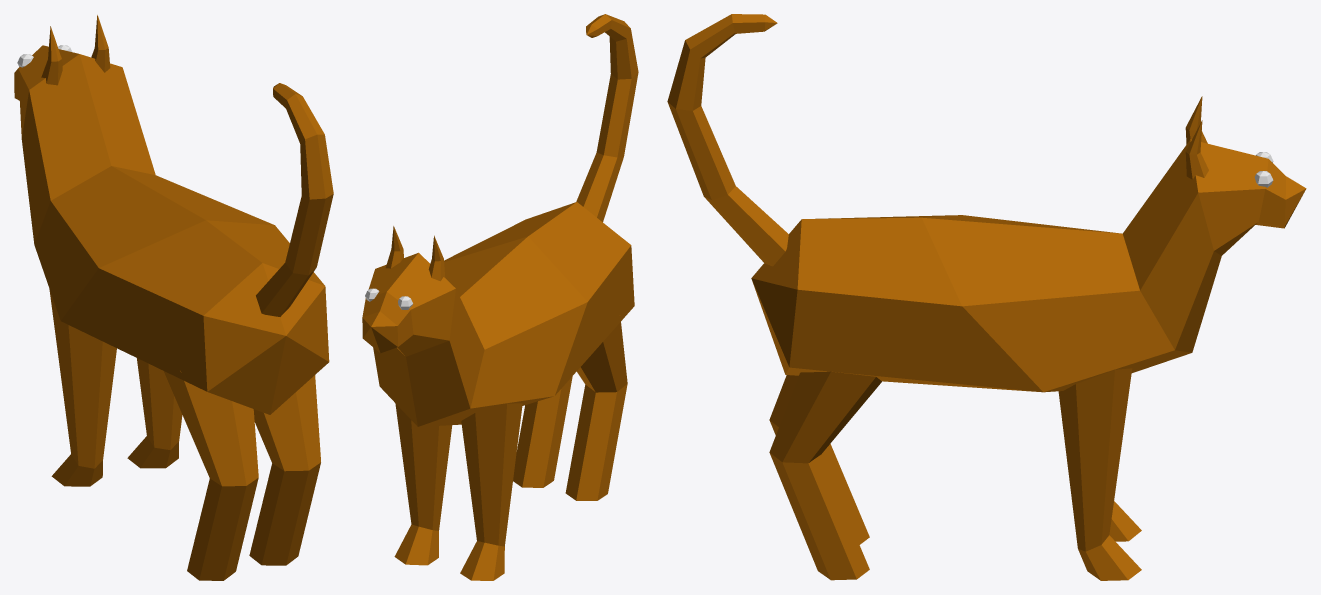
The model's file is cat.glb.
The picture shows the model from 3 angles, left to right: view 1: azimuth 30°, elevation 25°; view 2: azimuth 150°, elevation 25°; view 3: azimuth 270°, elevation 25°; orthographic projection. The views are drawn at different scales.
Parts seen in each view (by area): view 1: Cylinder, Cylinder.002, Cylinder.001, Cylinder.003; view 2: Cylinder, Cylinder.001, Cylinder.002, Cylinder.003; view 3: Cylinder, Cylinder.002, Cylinder.001, Cylinder.003.
Boxes of the visible parts, x1,y1,x2,y2 form: Cylinder: [14, 45, 333, 414]; Cylinder.002: [164, 371, 320, 580]; Cylinder.001: [49, 289, 182, 486]; Cylinder.003: [41, 15, 110, 85]; Cylinder: [362, 14, 638, 426]; Cylinder.001: [394, 403, 522, 580]; Cylinder.002: [513, 315, 627, 500]; Cylinder.003: [385, 226, 445, 281]; Cylinder: [667, 14, 1306, 392]; Cylinder.002: [769, 371, 881, 580]; Cylinder.001: [1058, 368, 1141, 580]; Cylinder.003: [1185, 96, 1208, 179].
Bounding box in the file's own units: 1.13 × 3.12 × 3.34.
